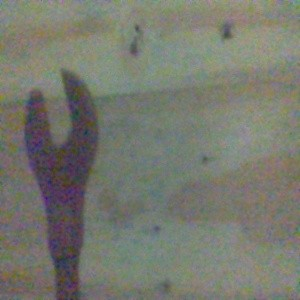spanner: (22, 68, 99, 300)
